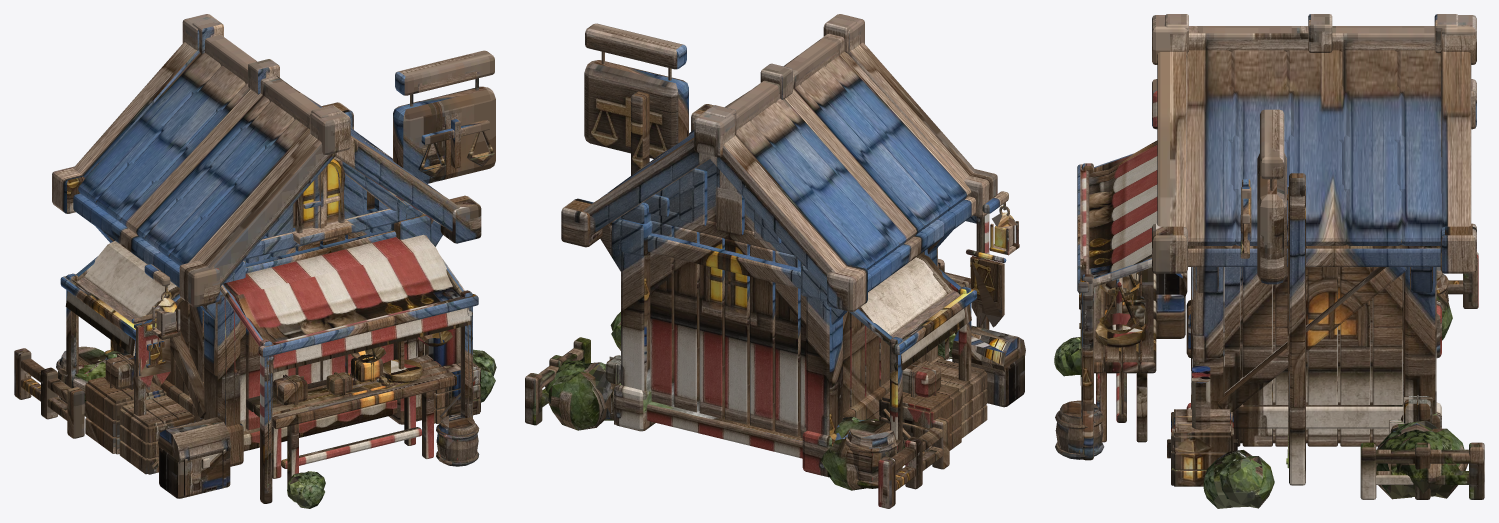
Rendered from trade_market.glb.
3 renders of one model, left to right at view 1: azimuth 30°, elevation 25°; view 2: azimuth 150°, elevation 25°; view 3: azimuth 270°, elevation 25°, orthographic. The views are drawn at different scales.
Visible parts, largest first — view 1: Carved hanging sign, Carved roof verge, Linen work canopy, Corner upright, Carved roof verge.002, Carved roof verge.001, Awning front beam, Table top plank, Ridge timber, Sign bracket, Canvas canopy stripe.002, Canvas canopy stripe.003 (+81 smaller); view 2: Carved hanging sign, Carved roof verge.001, Linen work canopy, Corner upright.001, Corner upright.003, Wall timber board.011, Wall timber board.005, Wall timber board.009, Wall timber board.003, Wall timber board.007, Wall timber board.013, Carved roof verge.003 (+66 smaller); view 3: Ridge timber, Carved roof verge.003, Carved roof verge.002, Trade sign post, Roof eave.001, Side wall diagonal.001, Side timber board.007, Side timber board.009, Side timber board.011, Side timber board.003, Corner upright.003, Side wall lower tie.001 (+75 smaller).
Part boxes in pixels (x1,y1,x2,y2): Carved hanging sign: (393, 86, 495, 183); Carved roof verge: (198, 133, 336, 286); Linen work canopy: (65, 241, 179, 355); Corner upright: (204, 296, 240, 426); Carved roof verge.002: (335, 135, 459, 231); Carved roof verge.001: (73, 42, 198, 177); Awning front beam: (258, 294, 478, 357); Table top plank: (272, 372, 456, 428); Ridge timber: (205, 35, 320, 128); Sign bracket: (395, 50, 494, 95); Canvas canopy stripe.002: (270, 261, 345, 361); Canvas canopy stripe.003: (295, 255, 370, 355); Carved hanging sign: (584, 60, 688, 158); Carved roof verge.001: (708, 135, 849, 291); Linen work canopy: (859, 253, 971, 370); Corner upright.001: (806, 297, 842, 435); Corner upright.003: (621, 202, 650, 390); Wall timber board.011: (674, 226, 699, 412); Wall timber board.005: (750, 245, 775, 430); Wall timber board.009: (699, 233, 724, 418); Wall timber board.003: (775, 251, 800, 436); Wall timber board.007: (725, 239, 750, 424); Wall timber board.013: (650, 221, 674, 405); Carved roof verge.003: (583, 137, 709, 235); Ridge timber: (1189, 26, 1434, 51); Carved roof verge.003: (1441, 51, 1471, 227); Carved roof verge.002: (1157, 51, 1187, 227); Trade sign post: (1289, 173, 1305, 485); Roof eave.001: (1188, 245, 1440, 266); Side wall diagonal.001: (1217, 267, 1406, 411); Side timber board.007: (1307, 267, 1337, 446); Side timber board.009: (1340, 267, 1370, 446); Side timber board.011: (1372, 267, 1402, 446); Side timber board.003: (1242, 267, 1272, 446); Corner upright.003: (1404, 267, 1436, 414); Side wall lower tie.001: (1233, 402, 1403, 428).
Size of the model in its own units: 4.22 by 3.67 by 3.58.
5 materials, 5 textured.
